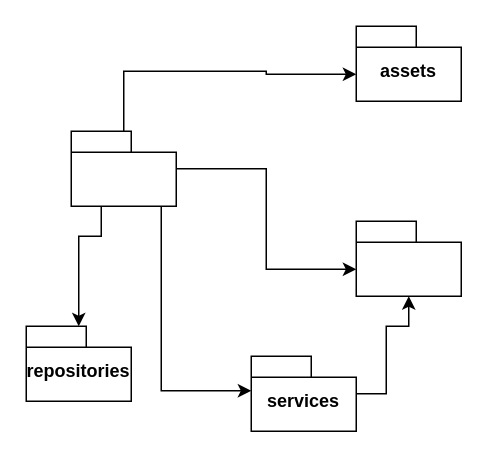
Image size: 488x458. Some labels were removed from this diagram. Each missing label, with the box of its shape:
enums: (355, 220, 461, 296)
ui: (70, 130, 176, 206)
